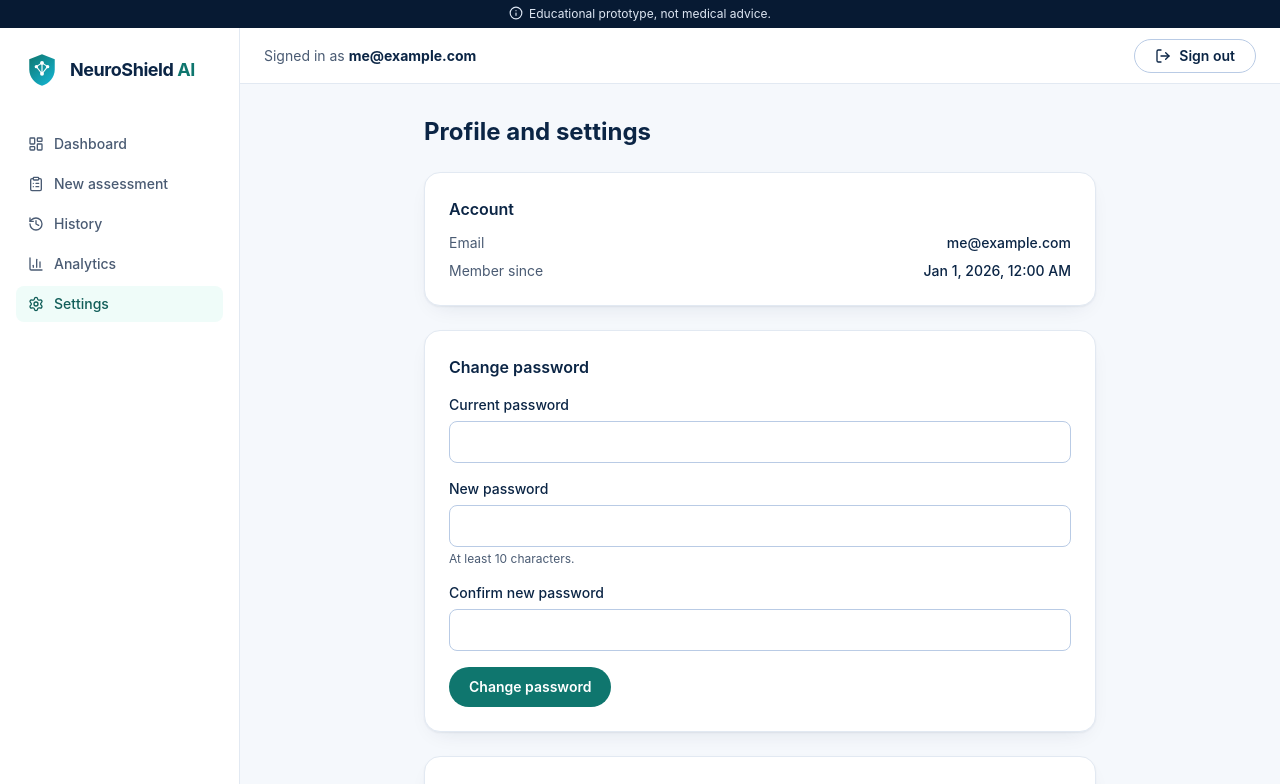
settings › shows the server error for a wrong current password
Step 1. Type "wrong-password-1" into the password field labelled "Current password" → (760, 442), box [449, 421, 1071, 463]
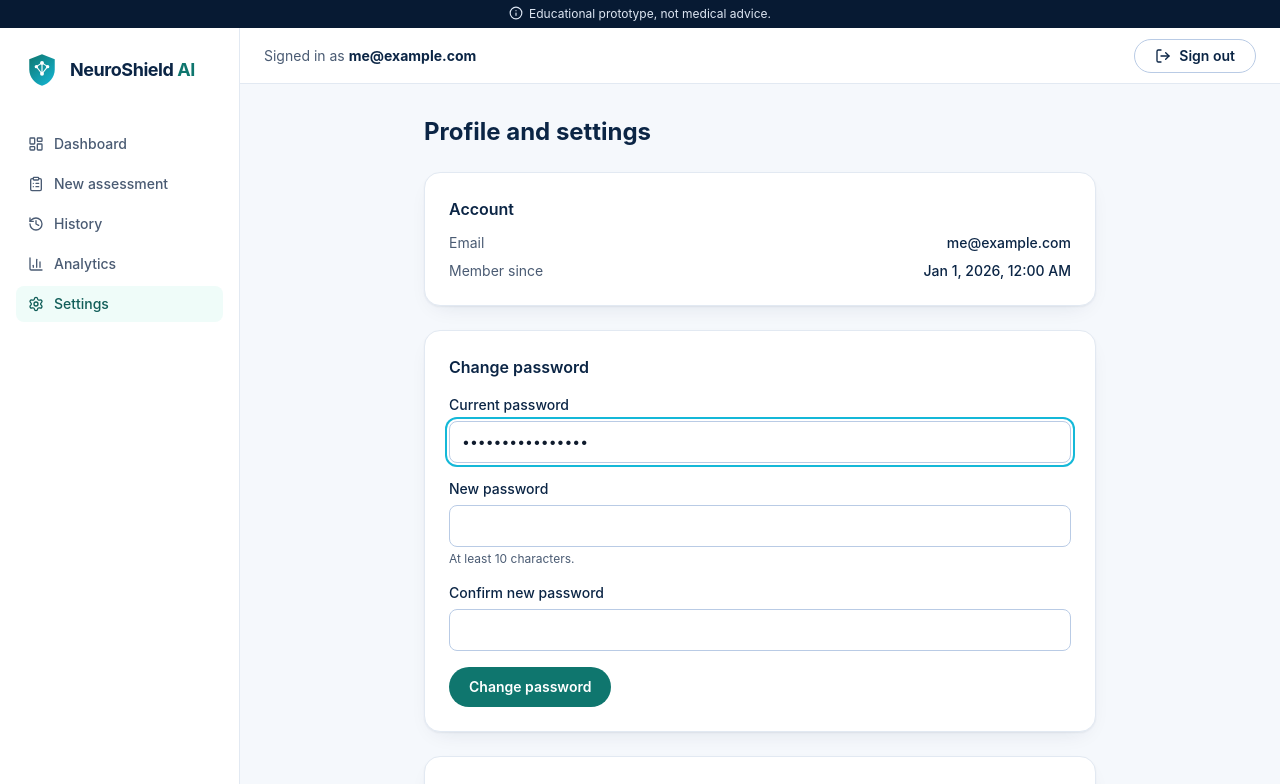
Step 2. Type "brand-new-pass-1" into the password field labelled "New password" → (760, 526), box [449, 505, 1071, 547]
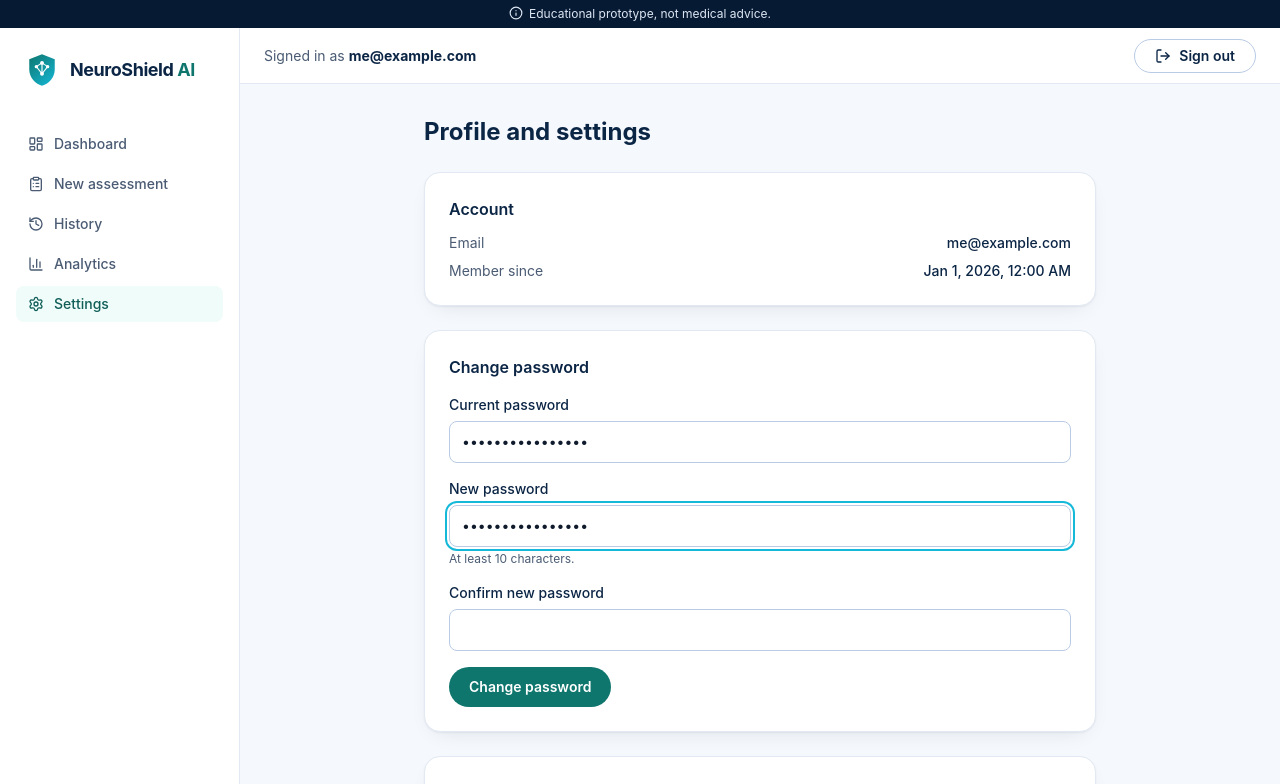
Step 3. Type "brand-new-pass-1" into the password field labelled "Confirm new password" → (760, 630), box [449, 609, 1071, 651]
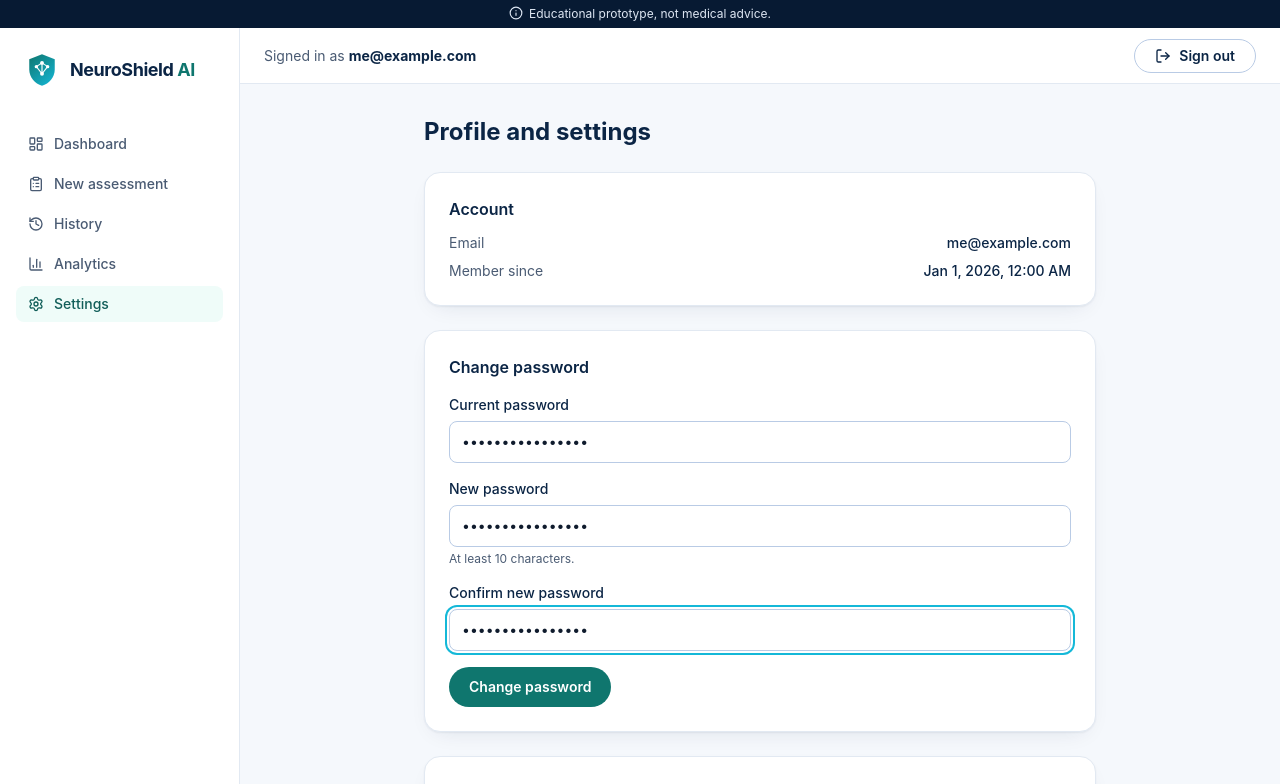
Step 4. Click the button "Change password" → (530, 687), box [449, 667, 611, 707]
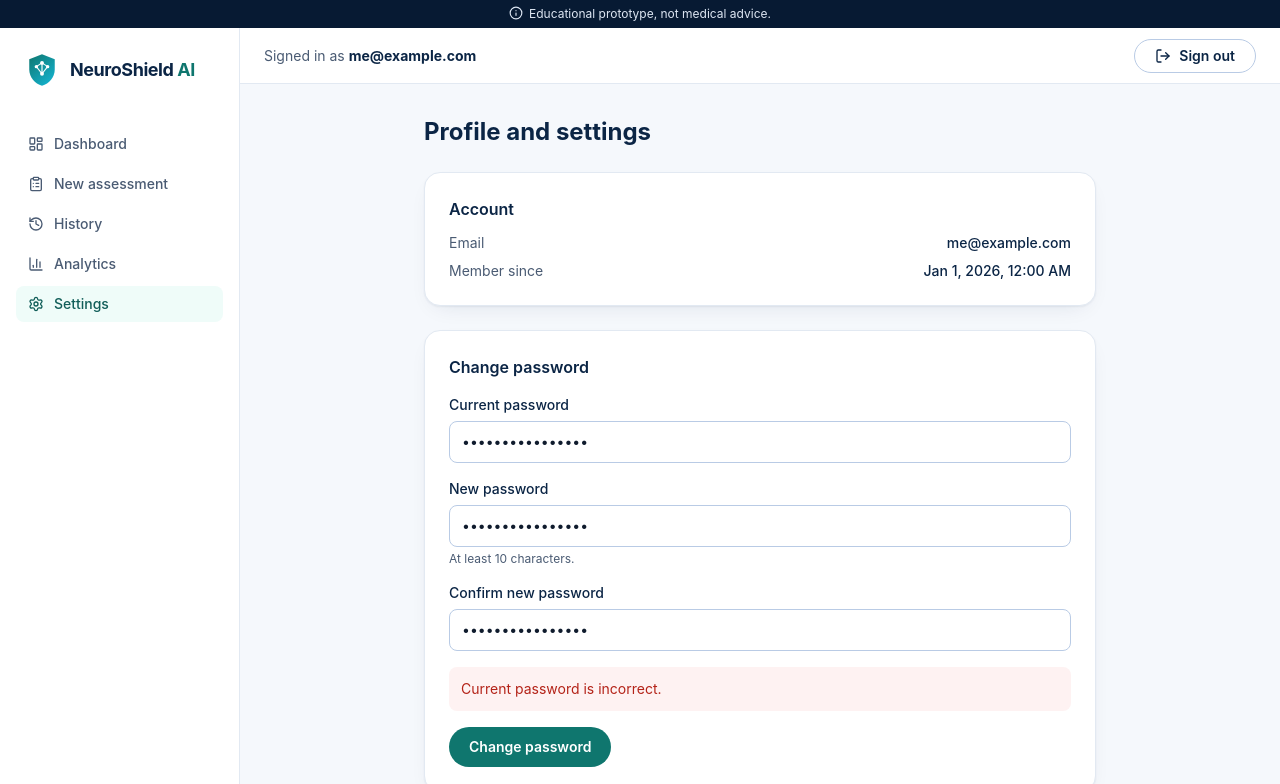
Expected: the text "Current password is incorrect." is shown, [449, 667, 1071, 711]
